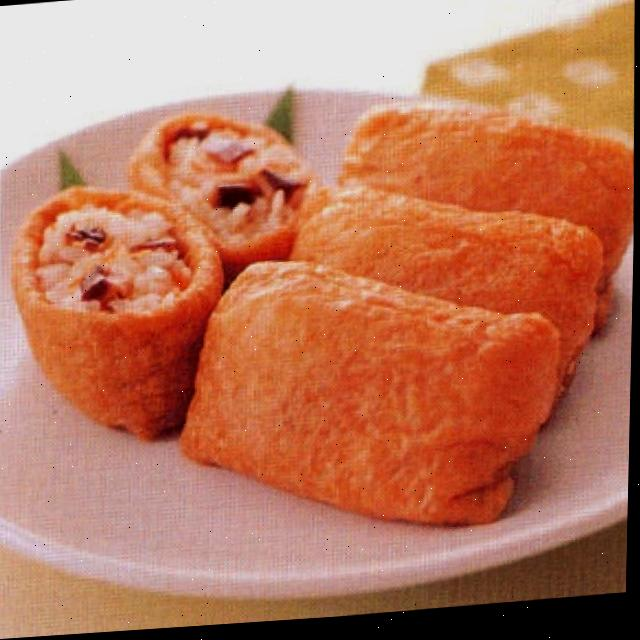寿司卷物: (8, 26, 623, 562)
